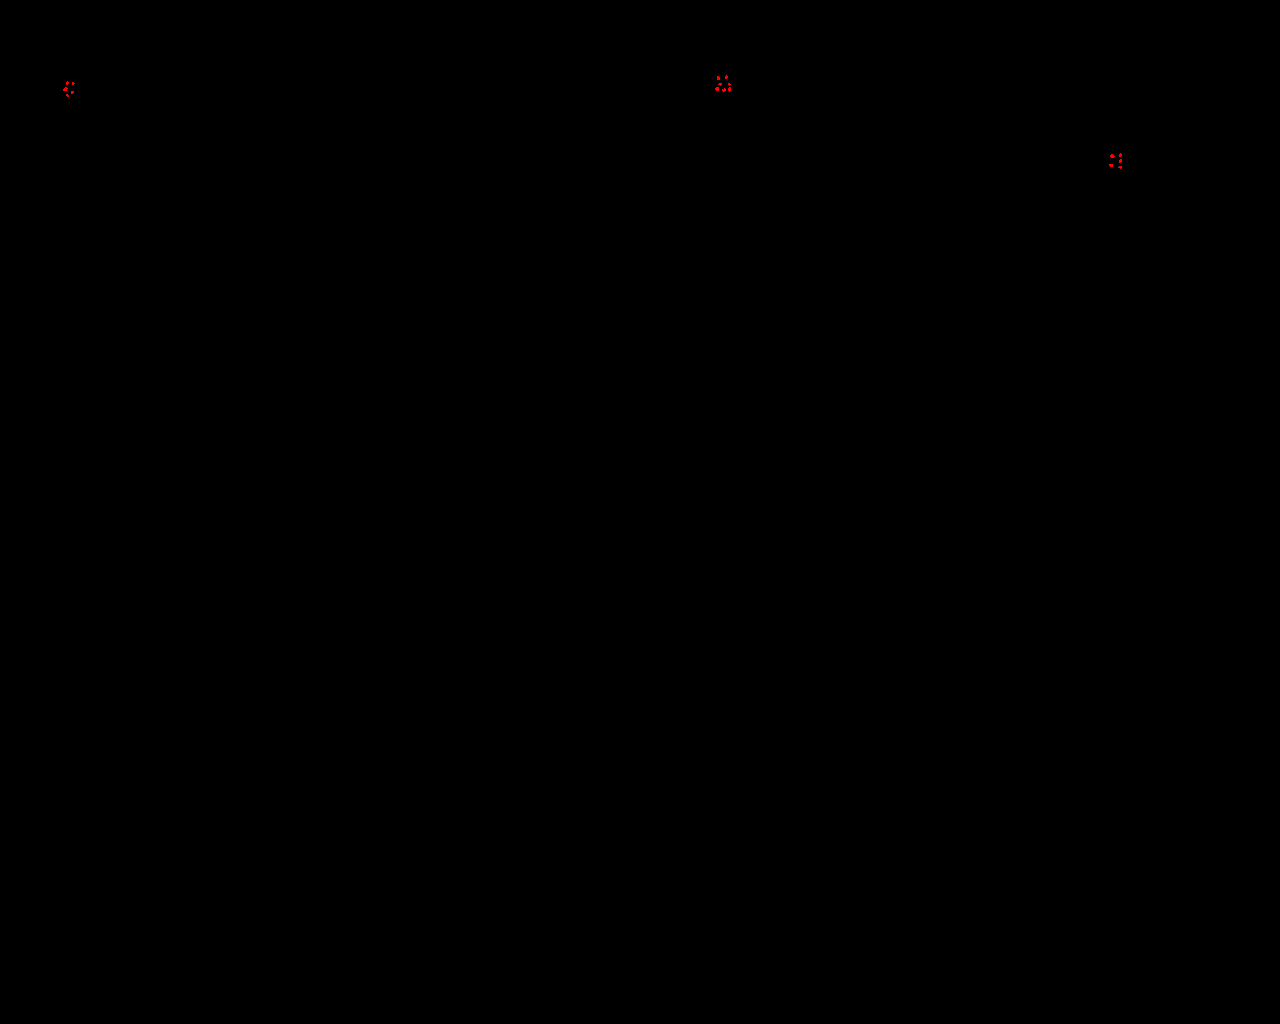Target: (63, 87, 68, 91), (1110, 154, 1115, 158), (715, 87, 719, 91), (722, 88, 726, 92), (728, 87, 731, 92), (725, 75, 728, 79), (717, 76, 720, 80), (718, 83, 722, 86), (1119, 153, 1122, 157), (1119, 159, 1122, 163), (1109, 164, 1113, 167), (1118, 166, 1122, 169), (66, 82, 69, 85), (72, 82, 75, 85), (728, 83, 731, 86), (71, 91, 74, 94), (66, 94, 69, 97)
